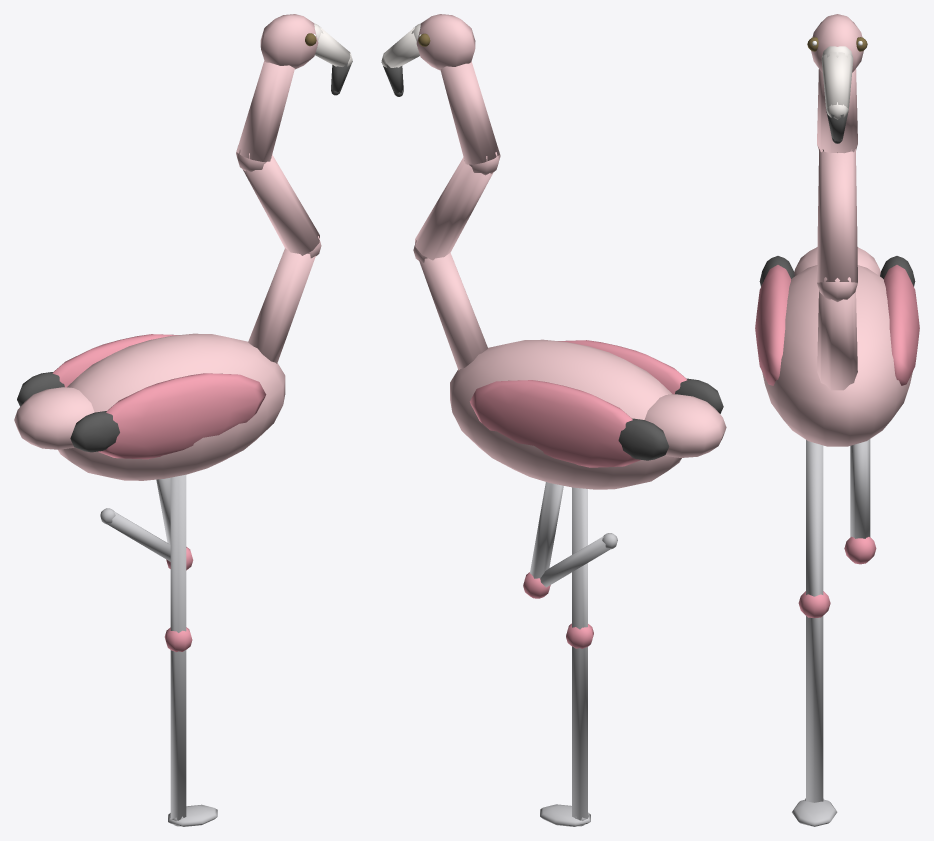
The model's file is chilean-flamingo.glb.
The picture shows the model from 3 angles, left to right: view 1: azimuth 30°, elevation 25°; view 2: azimuth 150°, elevation 25°; view 3: azimuth 270°, elevation 25°; orthographic projection. The views are drawn at different scales.
Visible parts, largest first — view 1: e.009, e.011, e, e.013; view 2: e.009, e.013, e, e.011; view 3: e.009, e, e.011, e.013.
Part boxes in pixels (x1,y1,x2,y2): e.009: [14, 61, 321, 826]; e.011: [70, 373, 266, 459]; e: [260, 14, 352, 95]; e.013: [17, 334, 178, 406]; e.009: [413, 61, 726, 826]; e.013: [469, 380, 669, 467]; e: [381, 14, 475, 96]; e.011: [558, 340, 723, 413]; e.009: [762, 69, 912, 826]; e: [807, 14, 867, 143]; e.011: [755, 256, 794, 385]; e.013: [880, 256, 919, 385].
Size of the model in its own units: 0.935 by 2.07 by 0.36.
